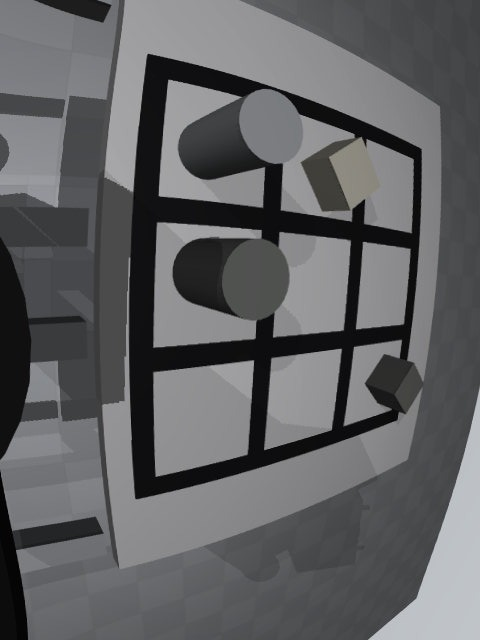can: (178, 89, 303, 180)
cube: (365, 354, 424, 414)
cylinder: (173, 239, 290, 320)
foam: (301, 137, 381, 212)
